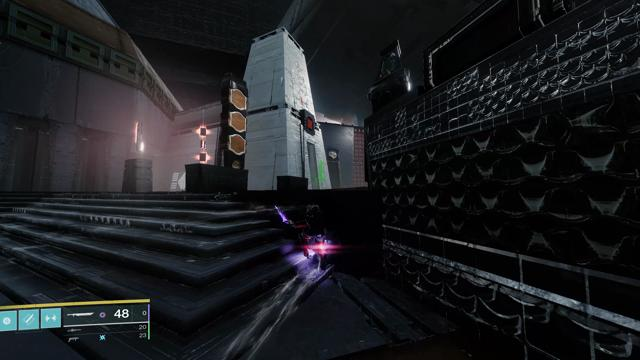brain: (327, 150, 338, 159)
stop: (306, 116, 313, 131)
